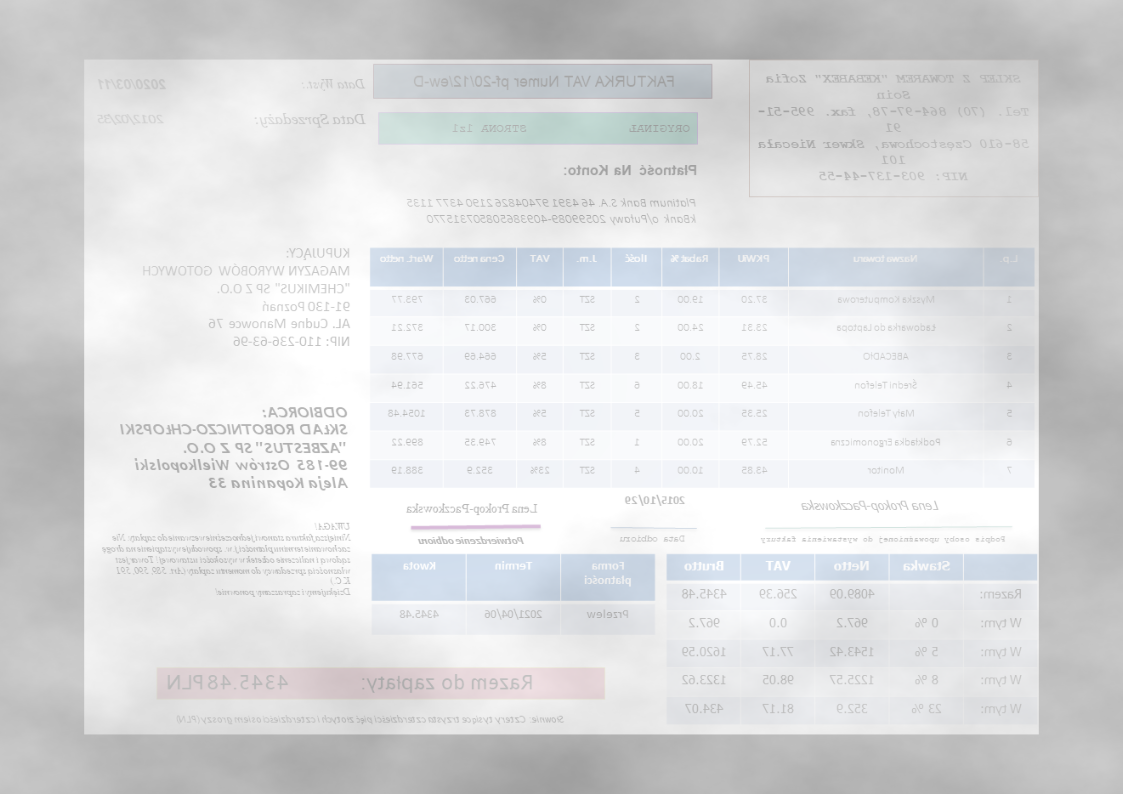Table: (368, 247, 1037, 490), (665, 553, 1038, 727), (370, 553, 656, 636)
TextBox: (755, 71, 1034, 182), (139, 243, 353, 349), (118, 404, 349, 492), (99, 519, 353, 599), (405, 195, 700, 226), (166, 672, 534, 694), (410, 71, 678, 92), (173, 712, 565, 726), (449, 121, 691, 135), (759, 534, 1008, 545), (799, 497, 941, 514), (561, 162, 699, 179), (406, 500, 541, 516), (252, 111, 367, 129), (417, 533, 526, 547), (96, 111, 166, 127), (96, 77, 168, 92), (300, 76, 366, 92), (623, 492, 687, 508), (619, 532, 687, 545)
